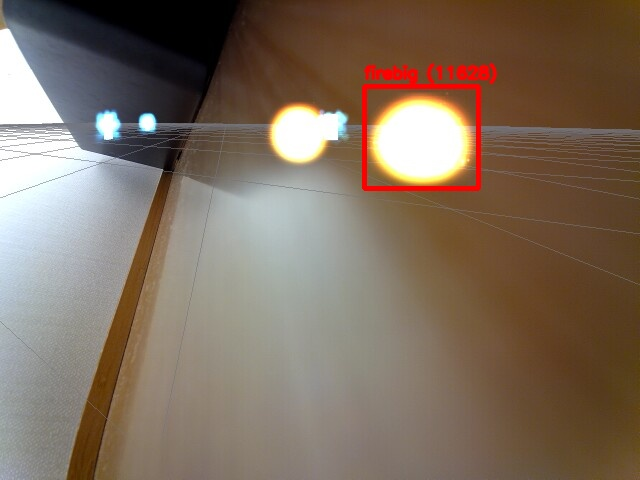firebig: (364, 86, 478, 188)
